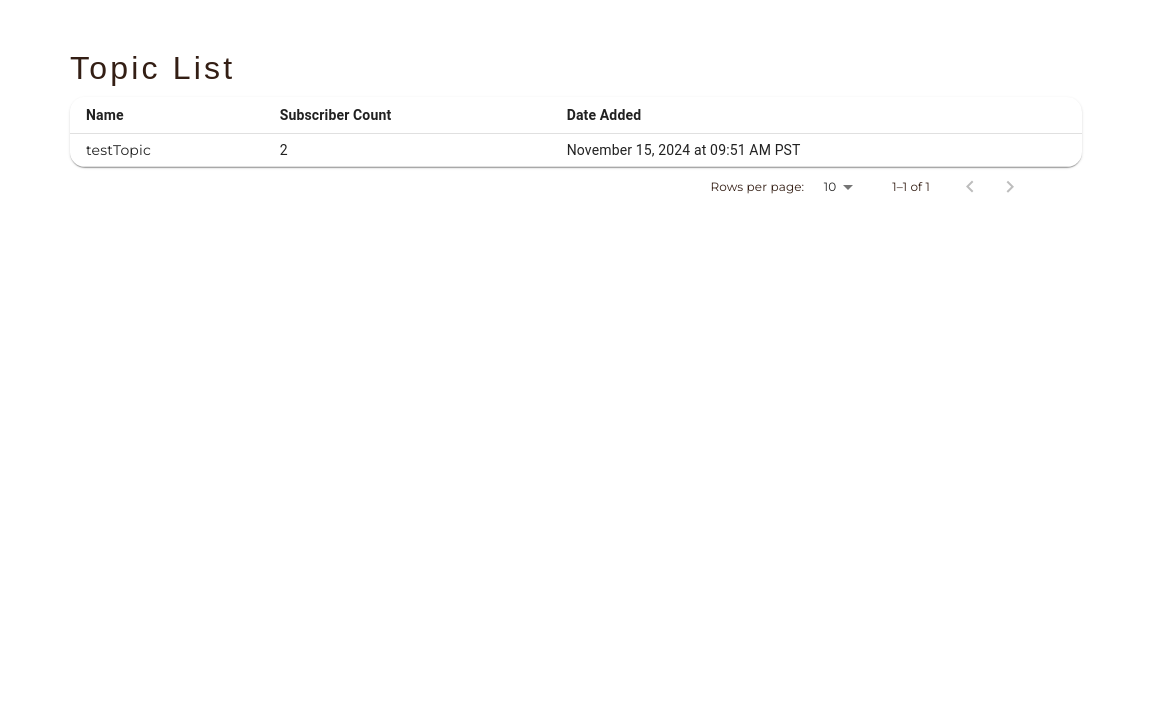
Testing Topics component › Clicking a topic renders the topic component and clicking the delete topic button removes the topic
Click the link "testTopic": click(118, 150) [86,141,151,159]
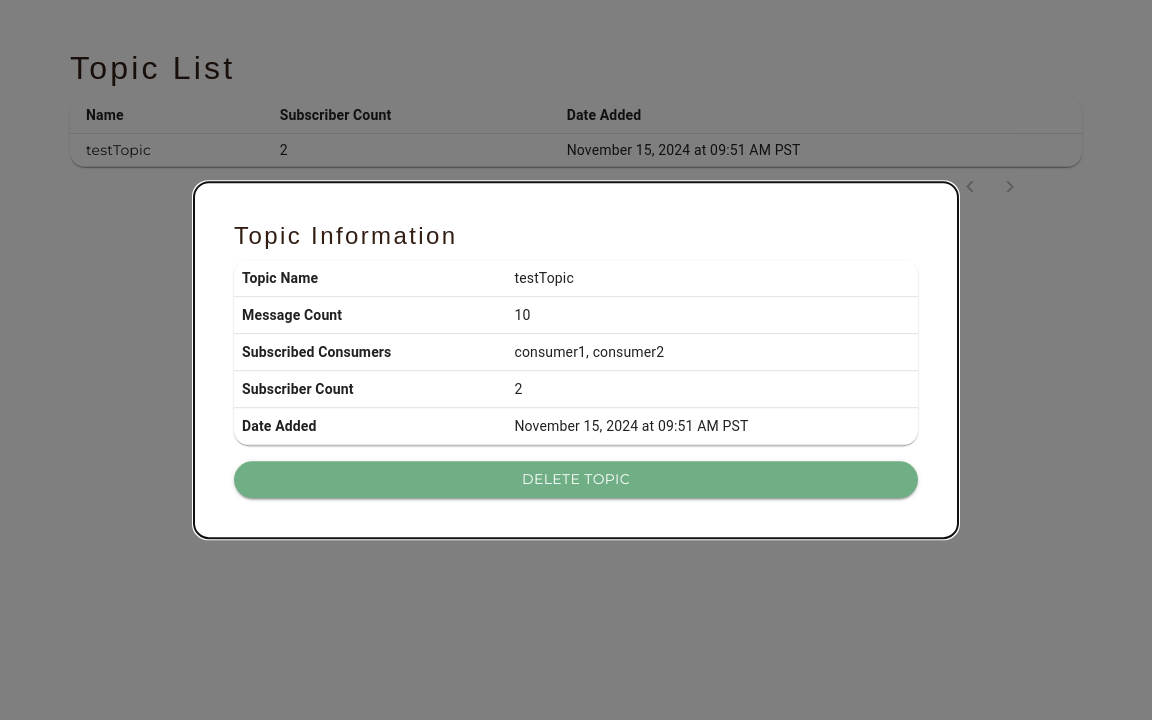
expect the button "Delete Topic" is shown: met
Click the button "Delete Topic": click(576, 480) [234,461,918,498]
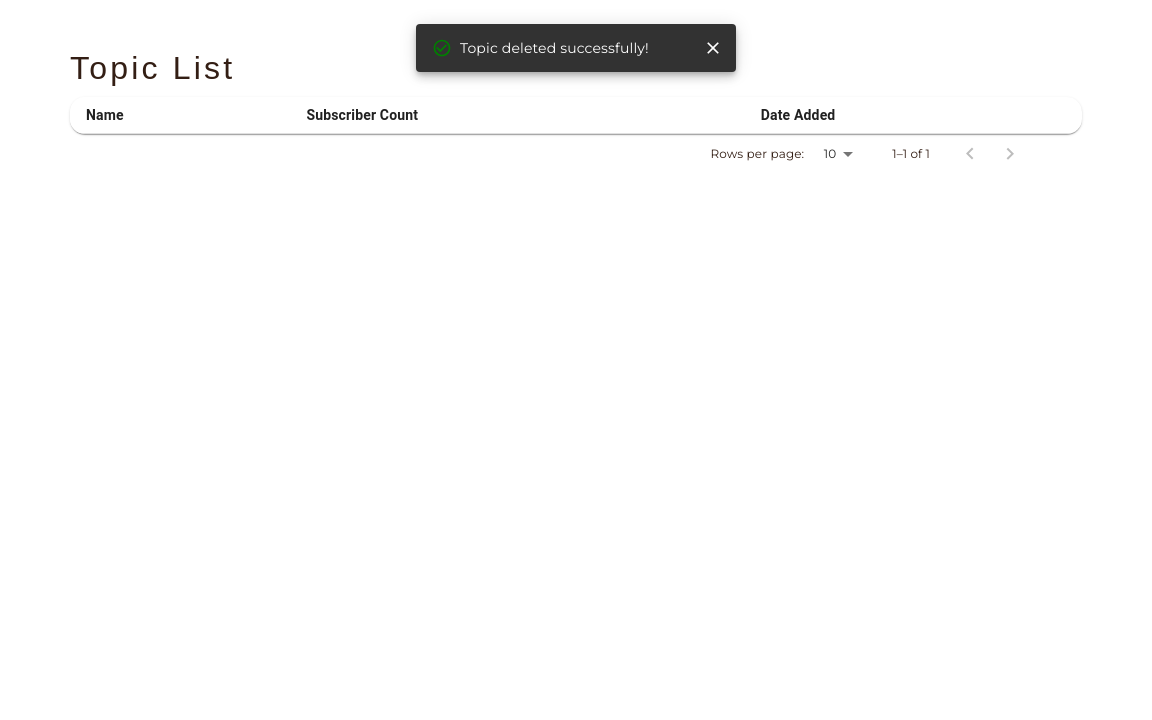
expect the text "Topic deleted successfully!" is shown: met, box [432,38,649,58]
